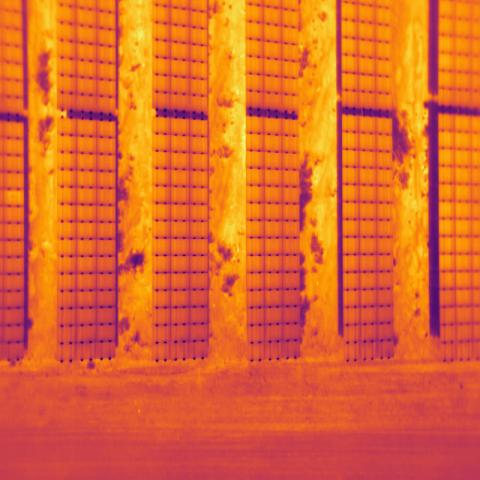fault: (4, 188, 24, 207)
